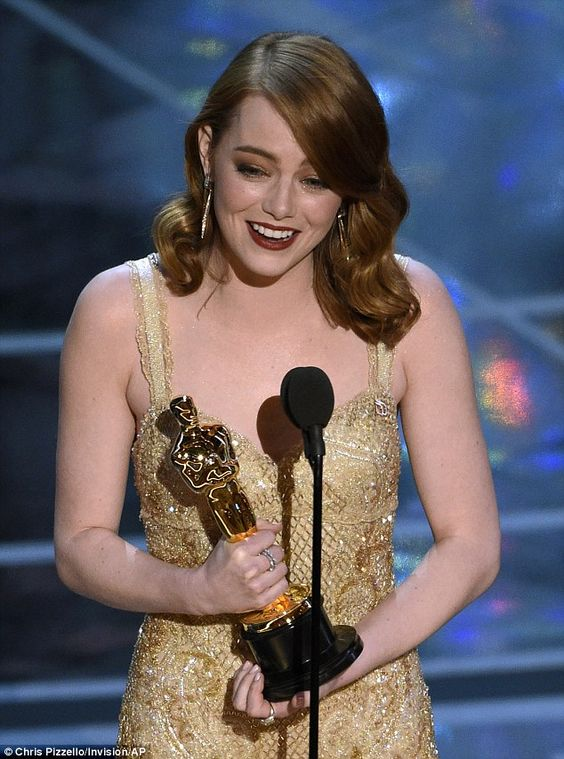hand: (183, 525, 278, 600)
